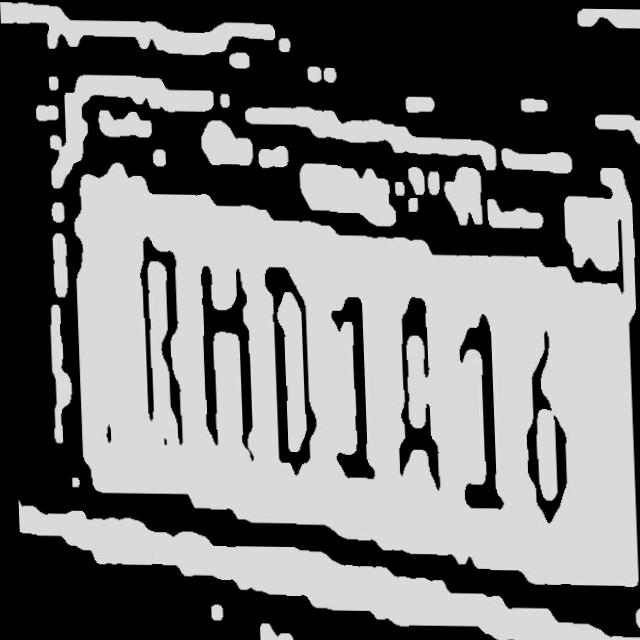1: (449, 311, 501, 517), (387, 295, 440, 493), (323, 292, 371, 484)
6: (517, 322, 571, 522)
d: (263, 263, 320, 477)
h: (193, 255, 256, 460)
r: (127, 234, 187, 451)
